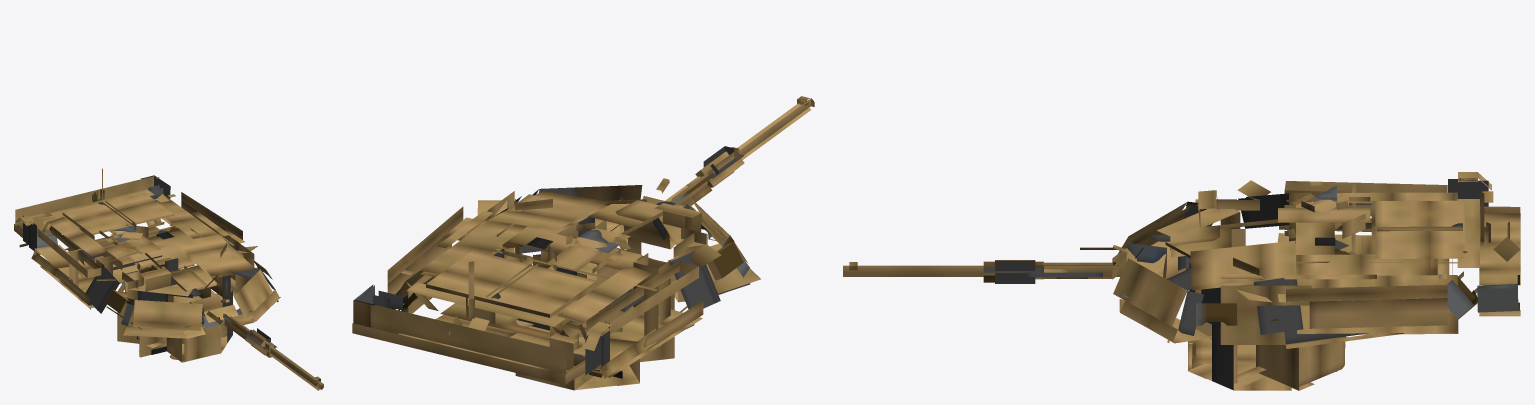
The model's file is m1a1_turret.obj.
3 renders of one model, left to right at view 1: azimuth 30°, elevation 25°; view 2: azimuth 150°, elevation 25°; view 3: azimuth 270°, elevation 25°, orthographic. The views are drawn at different scales.
Parts seen in each view (by area): view 1: turret, gun; view 2: turret, gun; view 3: turret, gun.
Part boxes in pixels (box(x1,y1,x2,y2)): turret: box(14, 168, 280, 362); gun: box(189, 294, 323, 390); turret: box(352, 185, 760, 390); gun: box(623, 96, 814, 249); turret: box(1113, 172, 1520, 390); gun: box(843, 242, 1166, 283).
Size of the model in its own units: 4.42 by 6.77 by 10.96.
